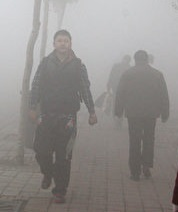person: (27, 29, 98, 204), (114, 49, 172, 180), (108, 54, 133, 116)
